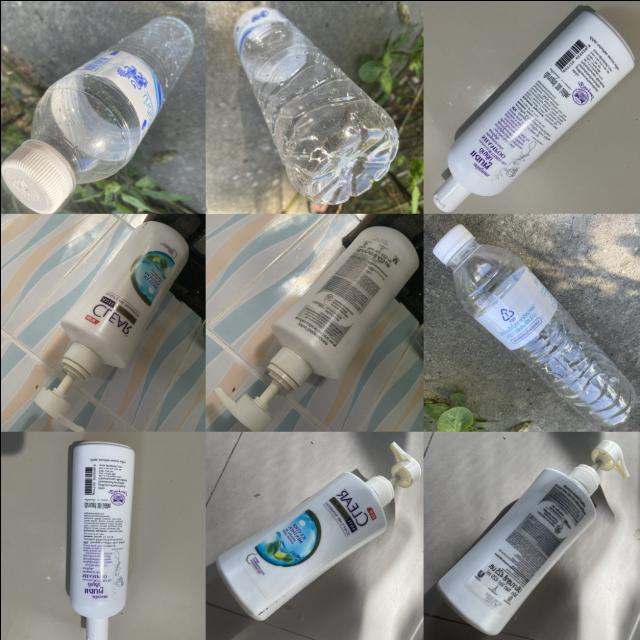plastik: (213, 226, 417, 430), (432, 223, 635, 426), (432, 11, 633, 212), (1, 15, 194, 213), (436, 439, 628, 635), (215, 441, 421, 619), (233, 7, 398, 203), (34, 222, 187, 430), (68, 441, 134, 640)
